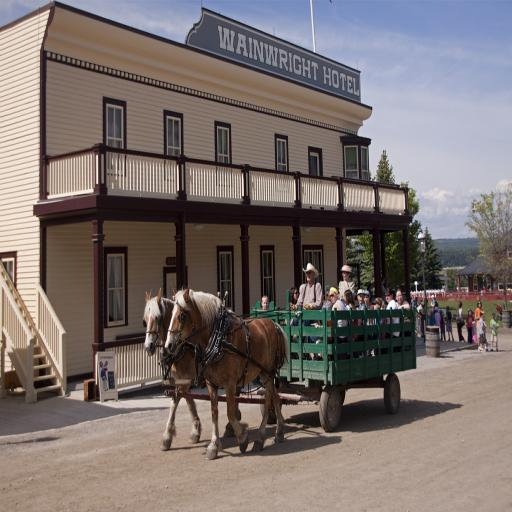horse: (164, 283, 290, 461), (145, 286, 248, 452)
